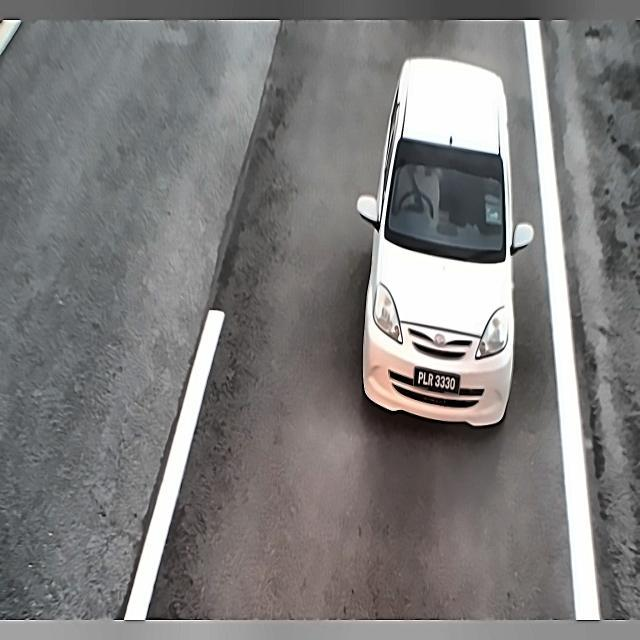car: (409, 355, 464, 404)
